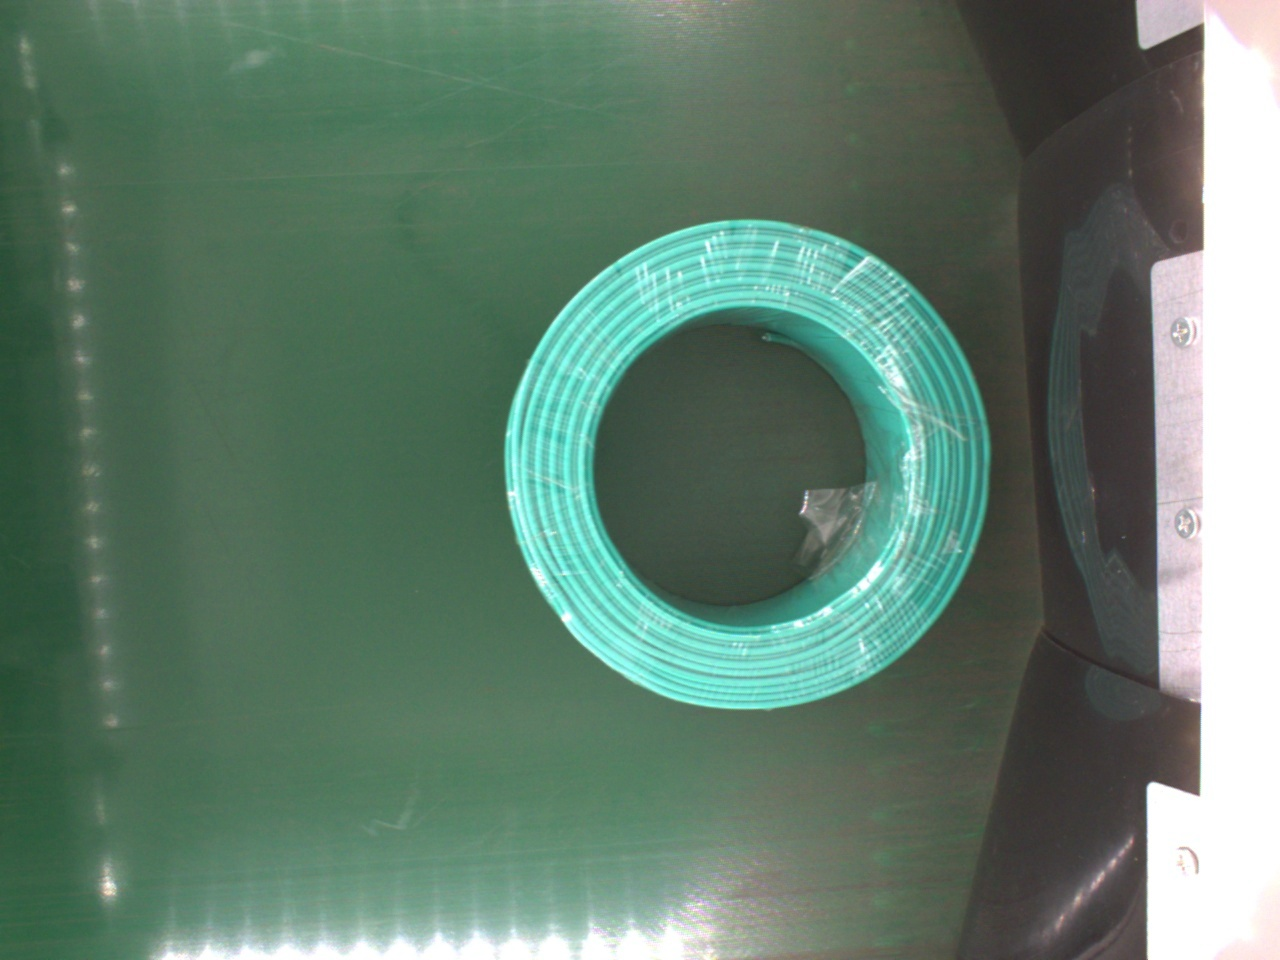green: (502, 222, 991, 713)
